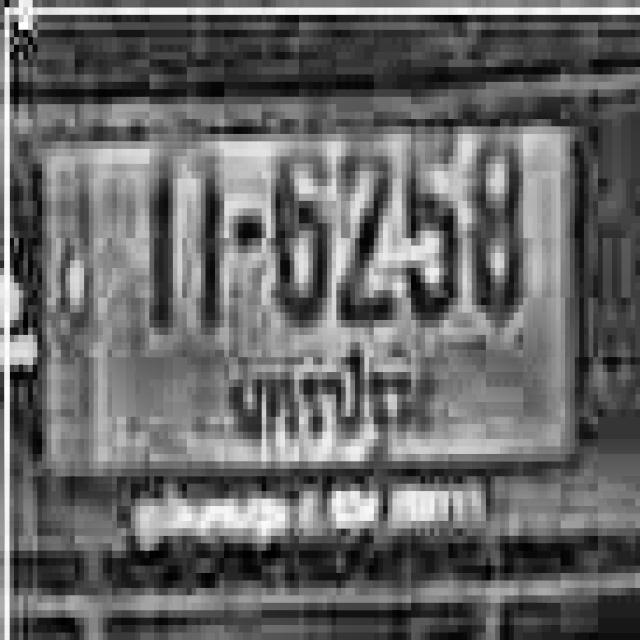license-plate: (32, 76, 616, 532)
